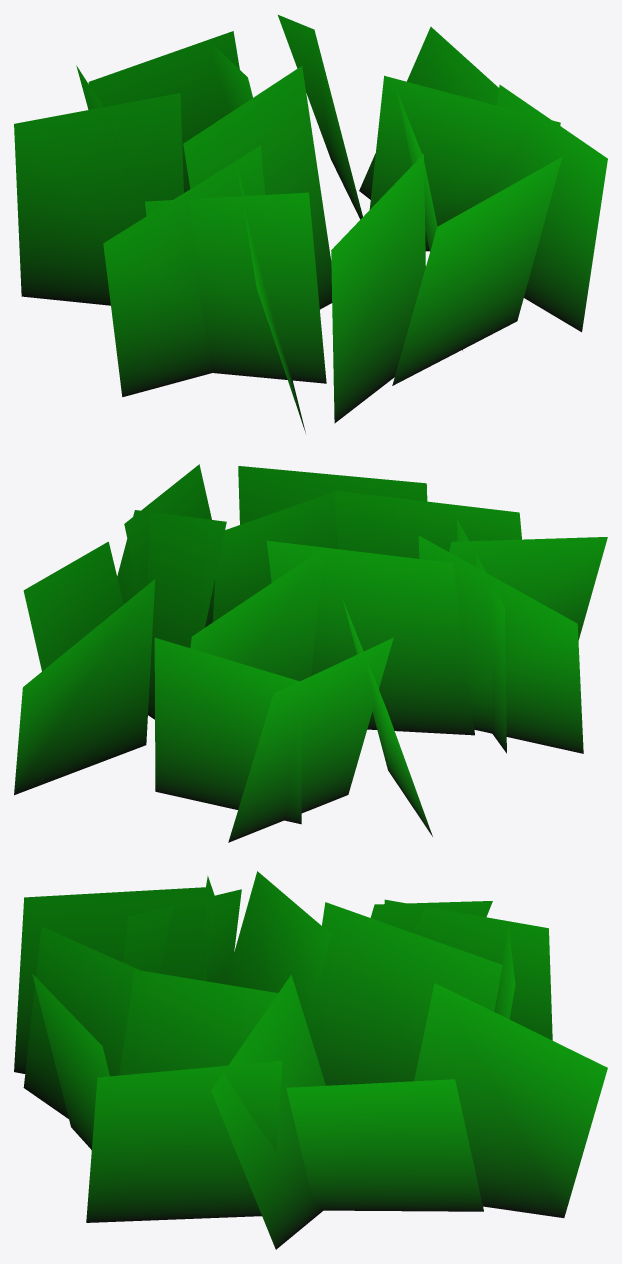
File: Grass_01.fbx
3 renders of one model, top to bottom at view 1: azimuth 30°, elevation 25°; view 2: azimuth 150°, elevation 25°; view 3: azimuth 270°, elevation 25°, orthographic. The views are drawn at different scales.
Parts seen in each view (by area): view 1: IL3DN_Plant_Grass_02; view 2: IL3DN_Plant_Grass_02; view 3: IL3DN_Plant_Grass_02.
Boxes of the visible parts, x1=… form: IL3DN_Plant_Grass_02: x1=14, y1=15, x2=607, y2=433; IL3DN_Plant_Grass_02: x1=14, y1=464, x2=607, y2=842; IL3DN_Plant_Grass_02: x1=14, y1=871, x2=607, y2=1249.
Size of the model in its own units: 23.18 by 10.28 by 25.41.
